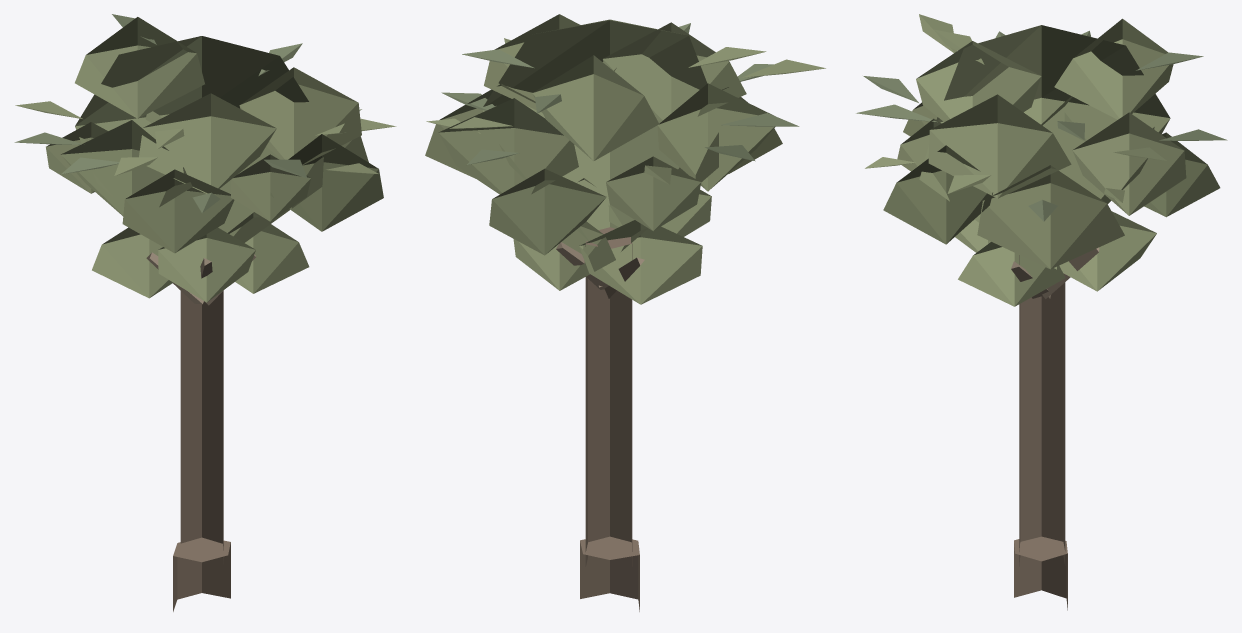
File: shu.mumian@subadult__winter.glb
The picture shows the model from 3 angles, left to right: view 1: azimuth 30°, elevation 25°; view 2: azimuth 150°, elevation 25°; view 3: azimuth 270°, elevation 25°; orthographic projection. The views are drawn at different scales.
Parts seen in each view (by area): view 1: shu.mumian@subadult__winter; view 2: shu.mumian@subadult__winter; view 3: shu.mumian@subadult__winter.
Boxes of the visible parts, <box> form: shu.mumian@subadult__winter: <box>14,14,396,611</box>; shu.mumian@subadult__winter: <box>425,14,825,611</box>; shu.mumian@subadult__winter: <box>856,14,1227,610</box>.
Size of the model in its own units: 10.06 by 16.69 by 9.81.
